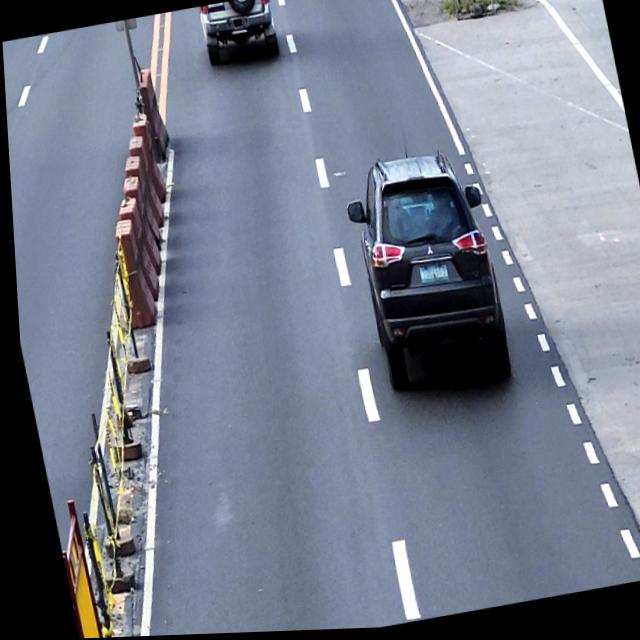Car: (335, 145, 514, 402), (196, 0, 280, 68)
License-Plate: (413, 262, 447, 290)
